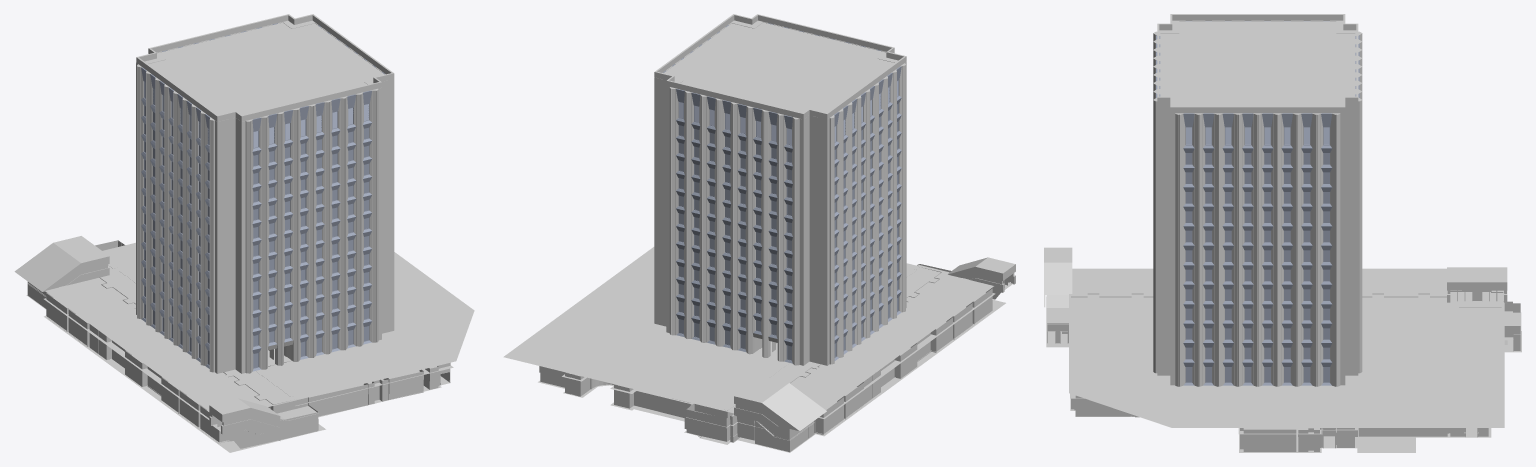
Rendered from Burnsidev1.0.1_latest.fbx.
The picture shows the model from 3 angles, left to right: view 1: azimuth 30°, elevation 25°; view 2: azimuth 150°, elevation 25°; view 3: azimuth 270°, elevation 25°; orthographic projection. The views are drawn at different scales.
Visible parts, largest first — view 1: 1_Outside_Ground, Roof, Roof_Ring, Exit_North_Exterior, Exit_South_Exterior, Exit_Walls_S, 1B_Main_Ceiling, Corner_13SW, Wall_Rm1B45, Corner_1SW, 1B_Hall_Floor, Corner_13SE (+30 smaller); view 2: 1_Outside_Ground, Roof, Roof_Ring, Exit_North_Exterior, 1B_Central_Outer_Hall_Wall, Wall_Rm1B51-54, Corner_13NW, Exit_South_Exterior, 1B_Main_Ceiling, 1B_Hall_Floor, Corner_1NW, Corner_13NE (+15 smaller); view 3: 1_Outside_Ground, Roof, Roof_Ring, 1B_Main_Floor, Exit_North_Exterior, 1B_Main_Ceiling, Exit_South_Exterior, Wall_Rm1B36, Corner_13NE, Corner_13SE, 1B_Central_Outer_Hall_Wall, Wall_Rm1B25 (+28 smaller).
Boxes of the visible parts, box(x1,y1,x2,y2) form: 1_Outside_Ground: box(45, 242, 474, 410); Roof: box(148, 22, 384, 115); Roof_Ring: box(136, 14, 394, 121); Exit_North_Exterior: box(14, 236, 109, 291); Exit_South_Exterior: box(209, 398, 280, 440); Exit_Walls_S: box(224, 404, 318, 448); 1B_Main_Ceiling: box(28, 284, 453, 420); Corner_13SW: box(209, 117, 253, 153); Wall_Rm1B45: box(268, 365, 368, 416); Corner_1SW: box(209, 348, 253, 373); 1B_Hall_Floor: box(26, 295, 325, 452); Corner_13SE: box(364, 74, 394, 122); 1_Outside_Ground: box(503, 247, 993, 413); Roof: box(664, 22, 894, 112); Roof_Ring: box(654, 14, 906, 119); Exit_North_Exterior: box(734, 376, 826, 431); 1B_Central_Outer_Hall_Wall: box(686, 267, 941, 441); Wall_Rm1B51-54: box(540, 366, 692, 417); Corner_13NW: box(792, 111, 834, 150); Exit_South_Exterior: box(948, 257, 1015, 292); 1B_Main_Ceiling: box(562, 265, 995, 440); 1B_Hall_Floor: box(684, 299, 1005, 452); Corner_1NW: box(792, 340, 834, 365); Corner_13NE: box(654, 73, 683, 120); 1_Outside_Ground: box(1069, 268, 1504, 427); Roof: box(1160, 21, 1355, 106); Roof_Ring: box(1157, 14, 1358, 113); 1B_Main_Floor: box(1070, 398, 1491, 452); Exit_North_Exterior: box(1447, 267, 1507, 303); 1B_Main_Ceiling: box(1046, 295, 1521, 434); Exit_South_Exterior: box(1044, 247, 1072, 307); Wall_Rm1B36: box(1240, 428, 1296, 451); Corner_13NE: box(1330, 97, 1362, 149); Corner_13SE: box(1153, 97, 1185, 149); 1B_Central_Outer_Hall_Wall: box(1071, 291, 1520, 350); Wall_Rm1B25: box(1358, 428, 1450, 436).
Bounding box in the file's own units: 5891 × 5135 × 7248.
